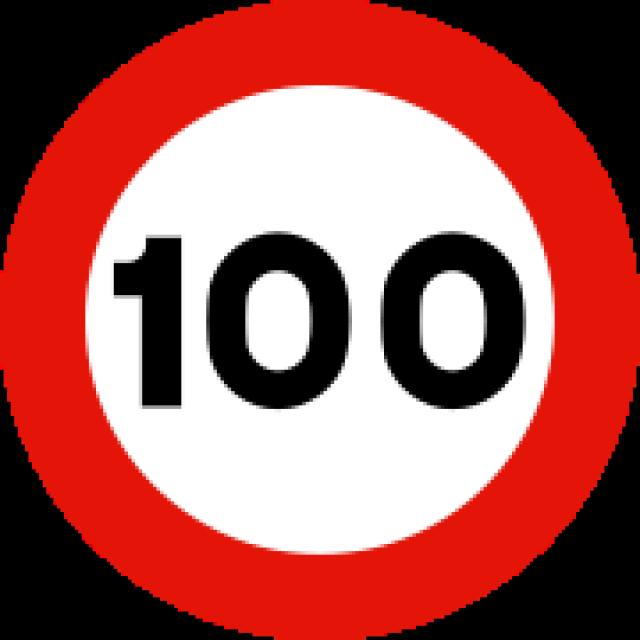Speed Limit -100-: (97, 210, 548, 434)
